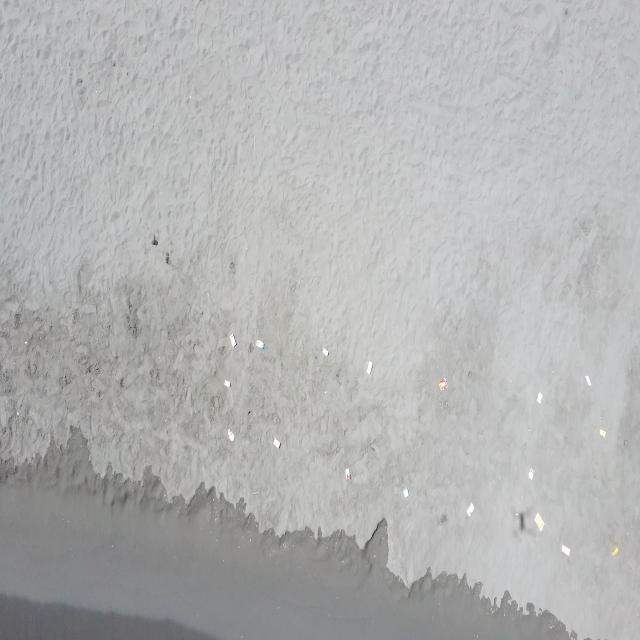retort-pouch: (534, 512, 544, 532), (437, 377, 449, 392), (227, 427, 236, 444), (228, 332, 236, 349), (344, 467, 352, 482), (562, 543, 570, 558), (466, 502, 474, 517), (527, 466, 535, 481), (611, 544, 619, 559), (273, 436, 281, 450), (366, 361, 374, 375), (256, 339, 264, 352), (402, 487, 409, 500), (585, 374, 591, 389), (536, 392, 543, 404), (322, 346, 329, 358), (599, 427, 606, 439), (224, 378, 231, 388)
